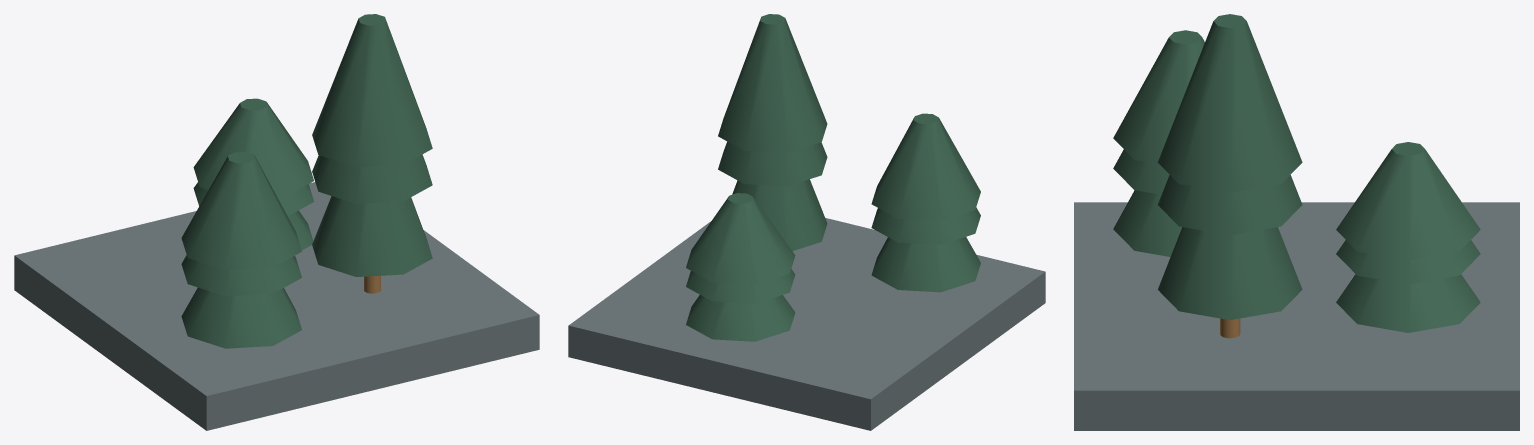
Rendered from garden.lod1.glb.
3 views of the same model, side by side, from view 1: azimuth 30°, elevation 25°; view 2: azimuth 150°, elevation 25°; view 3: azimuth 270°, elevation 25° (orthographic). The views are drawn at different scales.
Visible parts, largest first — view 1: structure; view 2: structure; view 3: structure.
Part boxes in pixels (x1,y1,x2,y2): structure: (14,14,539,430); structure: (568,14,1045,430); structure: (1074,14,1519,430).
Size of the model in its own units: 4 by 3.5 by 4.
